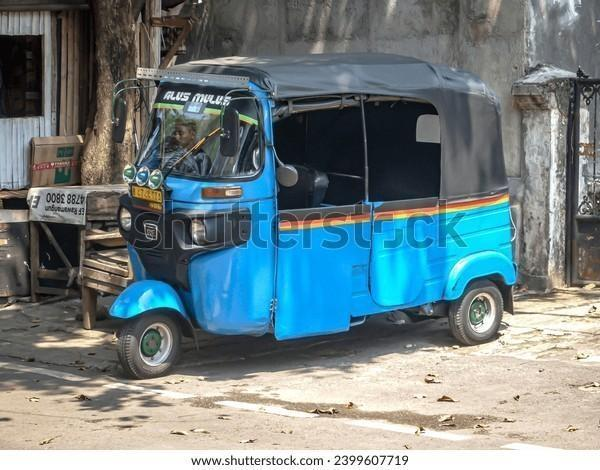keke: (104, 42, 519, 378)
